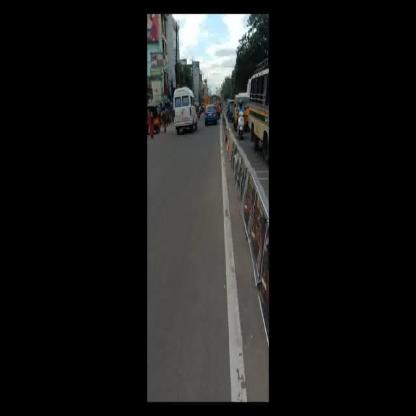priority: (170, 84, 200, 146)
